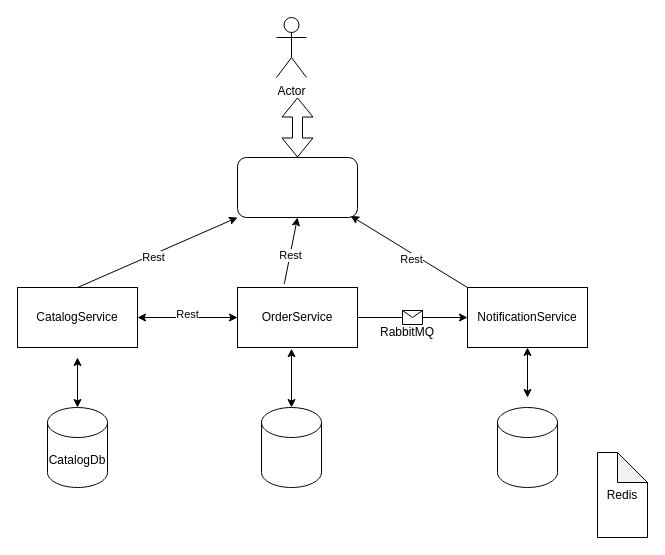
Some shapes in this 665 by 555 pixel diagram are drawn without their labels. The box of each missing label's shape, as (x1, y1, x2, y2) in pixels:
BackofficePortal: (236, 156, 358, 218)
NotificationDb: (496, 406, 558, 488)
OrderDb: (260, 406, 322, 488)
